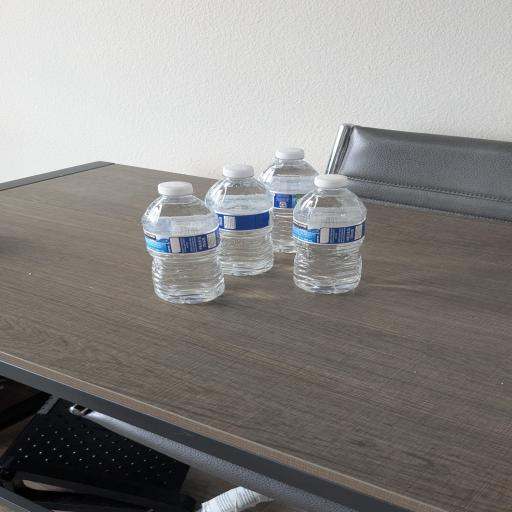waterbottle: (142, 182, 224, 303), (294, 175, 366, 293), (205, 165, 273, 275), (260, 148, 317, 252)
